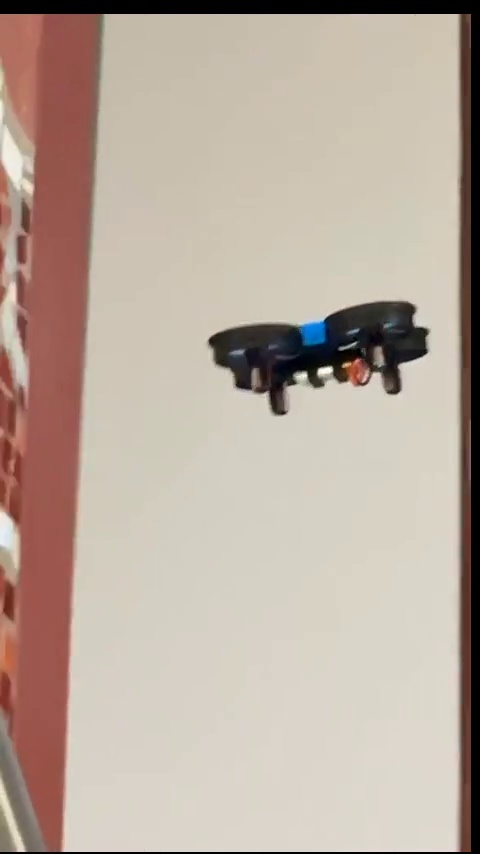drone: (206, 300, 432, 412)
